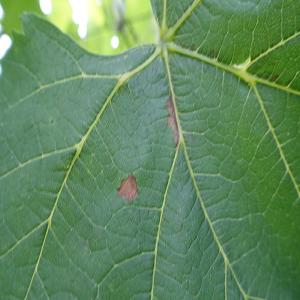Folha: (0, 0, 299, 299)
Fungo: (165, 91, 179, 147), (116, 172, 138, 202), (166, 92, 174, 117)
